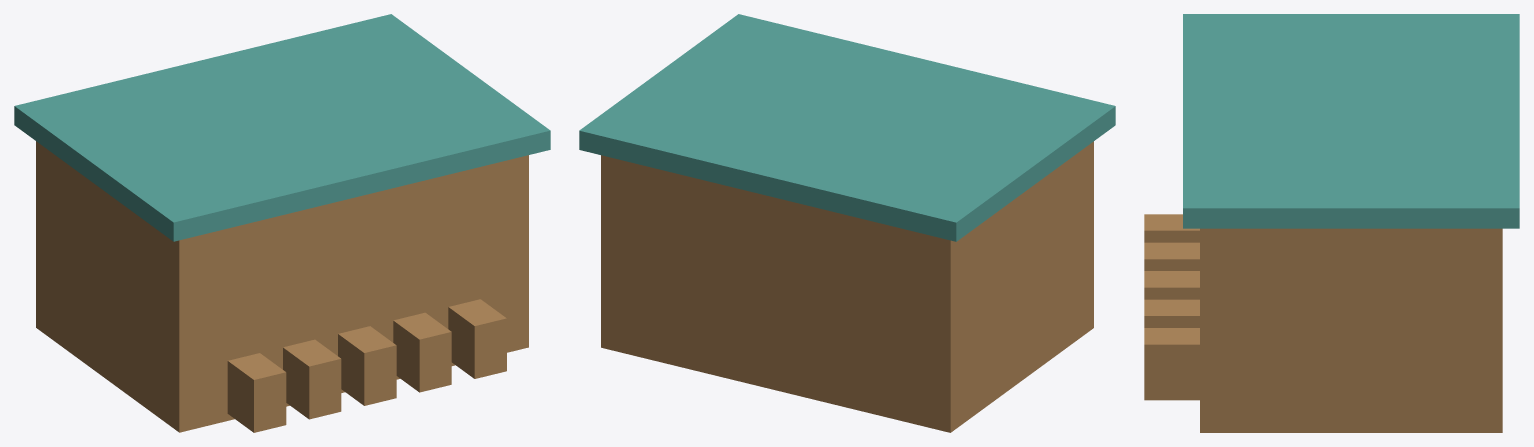
Rendered from textile-workshop.source.glb.
3 renders of one model, left to right at view 1: azimuth 30°, elevation 25°; view 2: azimuth 150°, elevation 25°; view 3: azimuth 270°, elevation 25°, orthographic. The views are drawn at different scales.
Visible parts, largest first — view 1: textile-workshop-building-mesh, textile-workshop-roof-mesh, textile-workshop-loom--1.2-mesh, textile-workshop-loom-0.6-mesh, textile-workshop-loom--0.6-mesh, textile-workshop-loom-0-mesh, textile-workshop-loom-1.2-mesh; view 2: textile-workshop-building-mesh, textile-workshop-roof-mesh; view 3: textile-workshop-roof-mesh, textile-workshop-building-mesh, textile-workshop-loom-1.2-mesh, textile-workshop-loom--0.6-mesh, textile-workshop-loom-0-mesh, textile-workshop-loom-0.6-mesh, textile-workshop-loom--1.2-mesh.
Part boxes in pixels (x1=…): textile-workshop-building-mesh: x1=36, y1=141, x2=528, y2=432; textile-workshop-roof-mesh: x1=14, y1=14, x2=550, y2=241; textile-workshop-loom--1.2-mesh: x1=227, y1=353, x2=286, y2=432; textile-workshop-loom-0.6-mesh: x1=393, y1=312, x2=451, y2=392; textile-workshop-loom--0.6-mesh: x1=283, y1=339, x2=341, y2=419; textile-workshop-loom-0-mesh: x1=338, y1=326, x2=396, y2=405; textile-workshop-loom-1.2-mesh: x1=448, y1=299, x2=506, y2=378; textile-workshop-building-mesh: x1=601, y1=141, x2=1093, y2=432; textile-workshop-roof-mesh: x1=579, y1=14, x2=1115, y2=241; textile-workshop-roof-mesh: x1=1183, y1=14, x2=1519, y2=228; textile-workshop-building-mesh: x1=1200, y1=228, x2=1502, y2=432; textile-workshop-loom-1.2-mesh: x1=1144, y1=328, x2=1199, y2=400; textile-workshop-loom--0.6-mesh: x1=1144, y1=242, x2=1199, y2=270; textile-workshop-loom-0-mesh: x1=1144, y1=271, x2=1199, y2=299; textile-workshop-loom-0.6-mesh: x1=1144, y1=299, x2=1199, y2=327; textile-workshop-loom--1.2-mesh: x1=1144, y1=214, x2=1199, y2=242.
Size of the model in its own units: 4.1 by 2.28 by 3.35.
